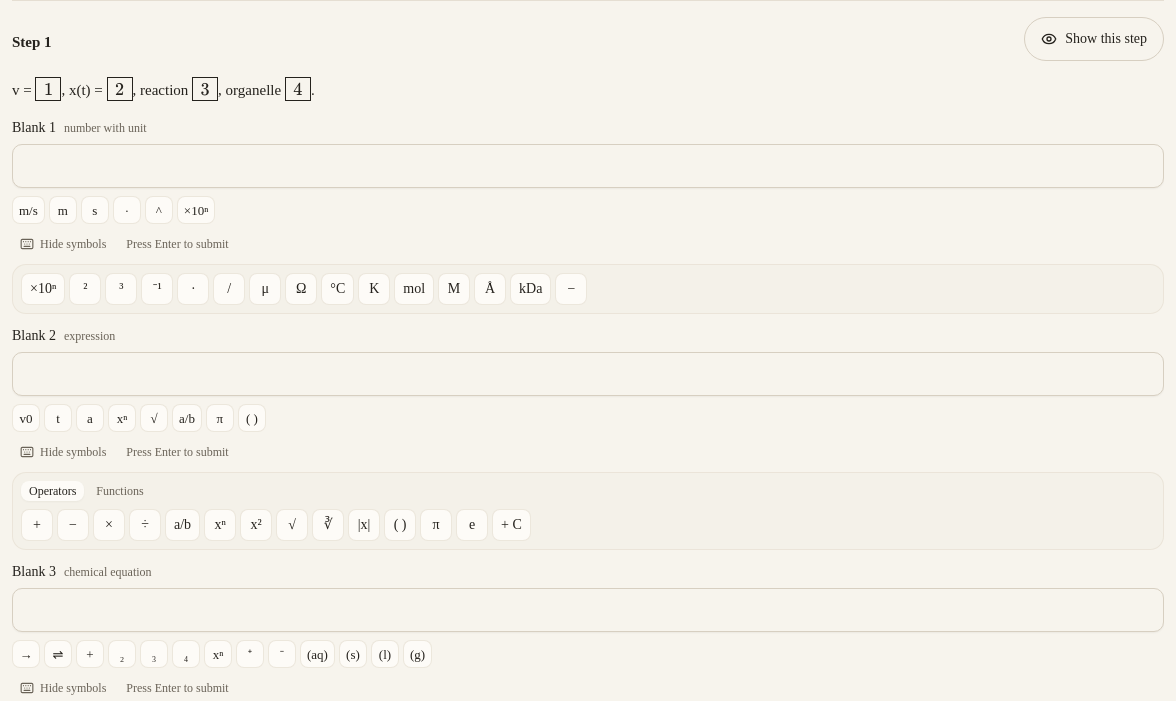
Scenario: guided blank quick insert › gives each blank the symbols of its kind
The image size is (1176, 701).
Click the field labelled "Blank 1". click: (588, 166)
box: 12,144 -> 1164,188
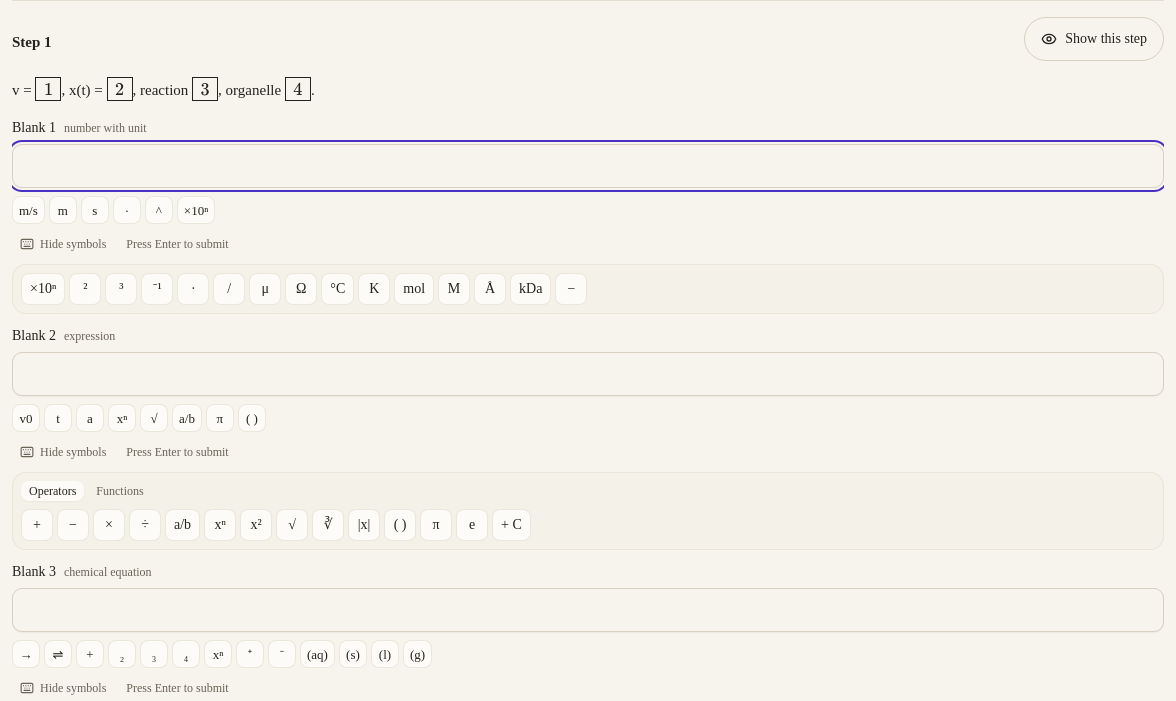
Type keys "19.6"
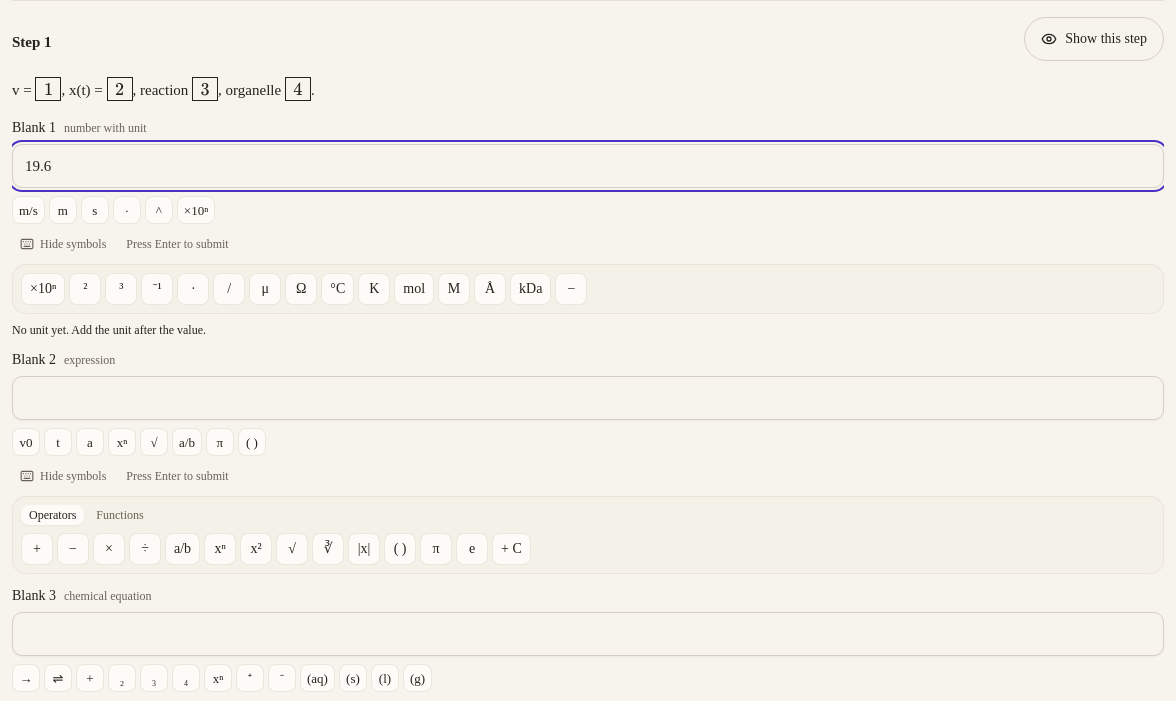
Click the button named "Insert m/s". click: (28, 210)
box: 12,196 -> 45,224
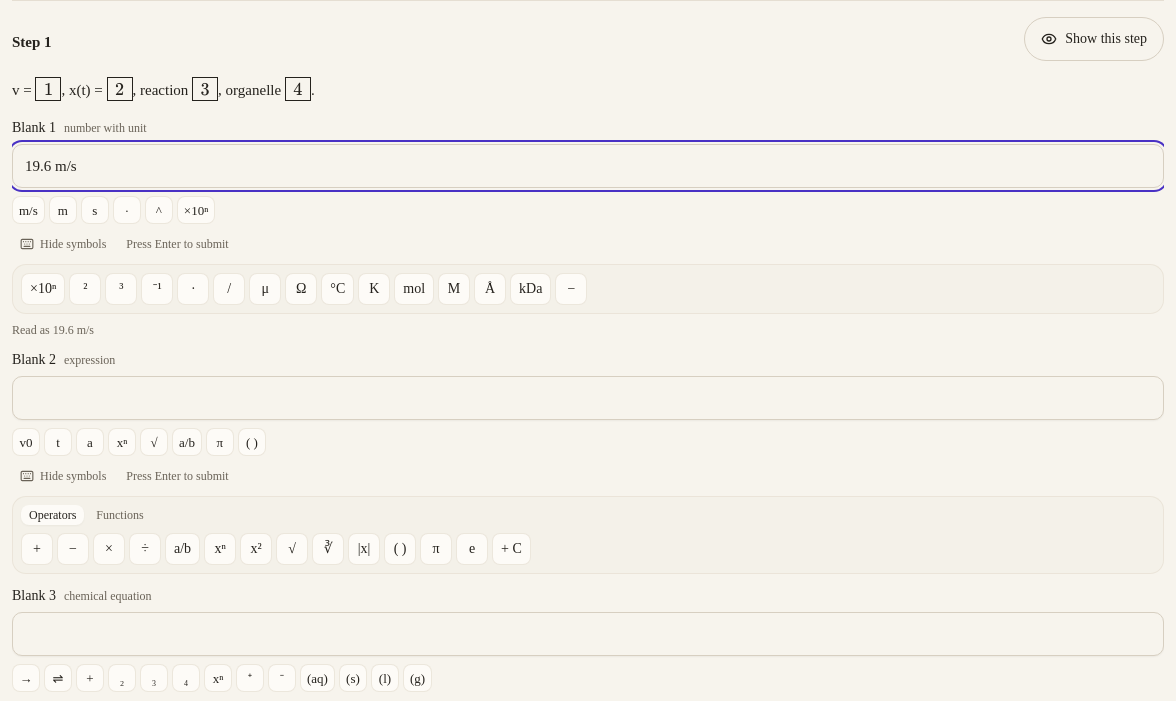
expect the field labelled "Blank 1" holds "19.6 m/s": met, box 12,144 -> 1164,188
